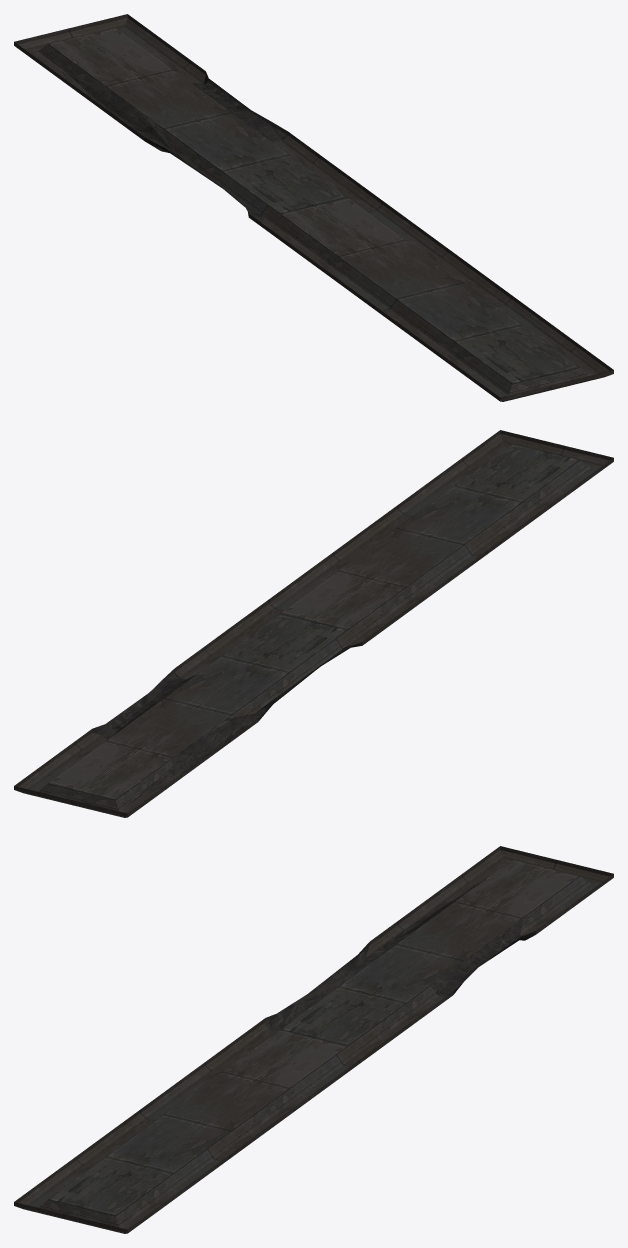
File: ts_xhmjdd.FBX
3 views of the same model, one above another, from view 1: azimuth 30°, elevation 25°; view 2: azimuth 150°, elevation 25°; view 3: azimuth 330°, elevation 25° (orthographic).
Parts seen in each view (by area): view 1: ts_bosz_wall31a, ts_bosz_wall30a, ts_bosz_wall29a; view 2: ts_bosz_wall31a, ts_bosz_wall30a, ts_bosz_wall29a; view 3: ts_bosz_wall31a, ts_bosz_wall30a, ts_bosz_wall29a.
Boxes of the visible parts, x1=… form: ts_bosz_wall31a: x1=48, y1=27, x2=579, y2=383; ts_bosz_wall30a: x1=14, y1=14, x2=613, y2=401; ts_bosz_wall29a: x1=40, y1=53, x2=288, y2=222; ts_bosz_wall31a: x1=48, y1=443, x2=579, y2=799; ts_bosz_wall30a: x1=14, y1=430, x2=613, y2=817; ts_bosz_wall29a: x1=92, y1=642, x2=362, y2=811; ts_bosz_wall31a: x1=48, y1=859, x2=579, y2=1215; ts_bosz_wall30a: x1=14, y1=846, x2=613, y2=1233; ts_bosz_wall29a: x1=265, y1=876, x2=535, y2=1030.
Size of the model in its own units: 10.68 by 0.74 by 79.14.
